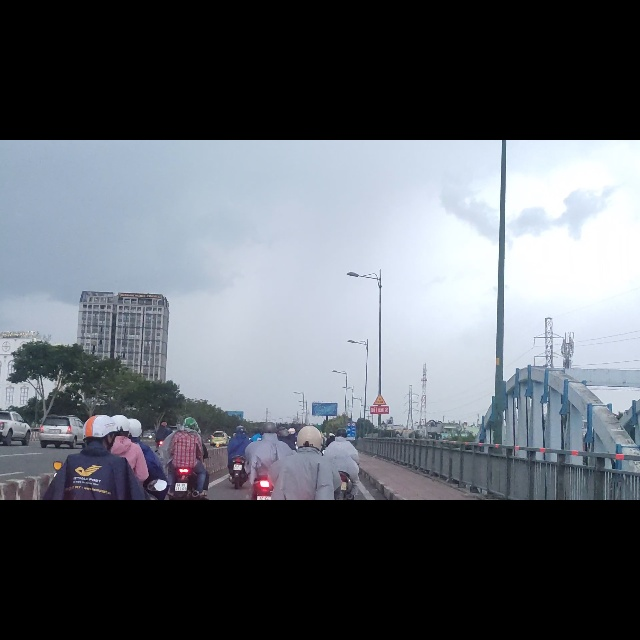bien_cam: (372, 449, 387, 472)
